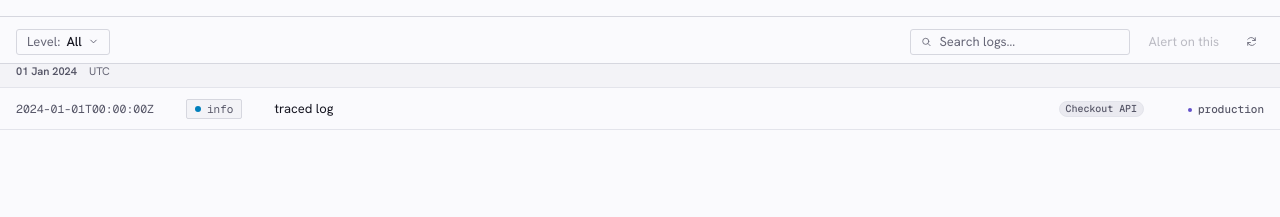
LogsView › expanded row details › shows trace_id when log has one
Click the row "2024-01-01T00:00:00Z info traced log Checkout API production": (640, 108) [0,88,1279,130]
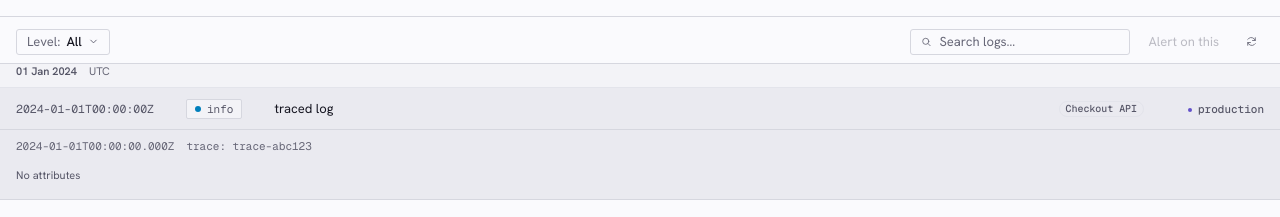
Expected: the text "trace-abc123" is shown, [186,139,312,153]
